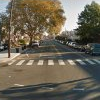crosswalk: (7, 58, 100, 65)
